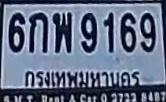1: (103, 12, 113, 52)
6: (8, 12, 24, 51), (120, 12, 135, 51)
9: (139, 12, 156, 52), (80, 12, 96, 52)
A01: (28, 12, 47, 52)
A30: (52, 11, 71, 52)
BKK: (19, 66, 146, 91)
